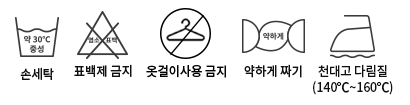KR_gentle_wring: (238, 15, 307, 57)
KR_hand_wash_30_neutral: (13, 12, 61, 60)
KR_no_chlorine_bleach: (73, 10, 131, 62)
